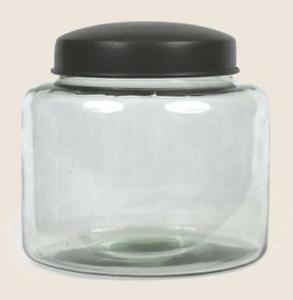Rec_Glass: (20, 9, 272, 279)
